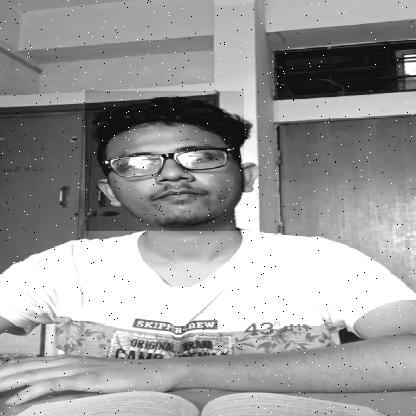Normal: (85, 91, 244, 231)
